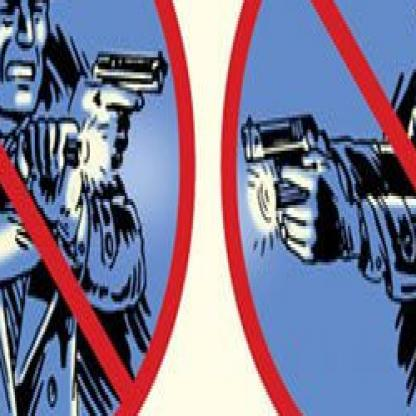gun: (231, 112, 356, 253), (77, 36, 168, 223)
